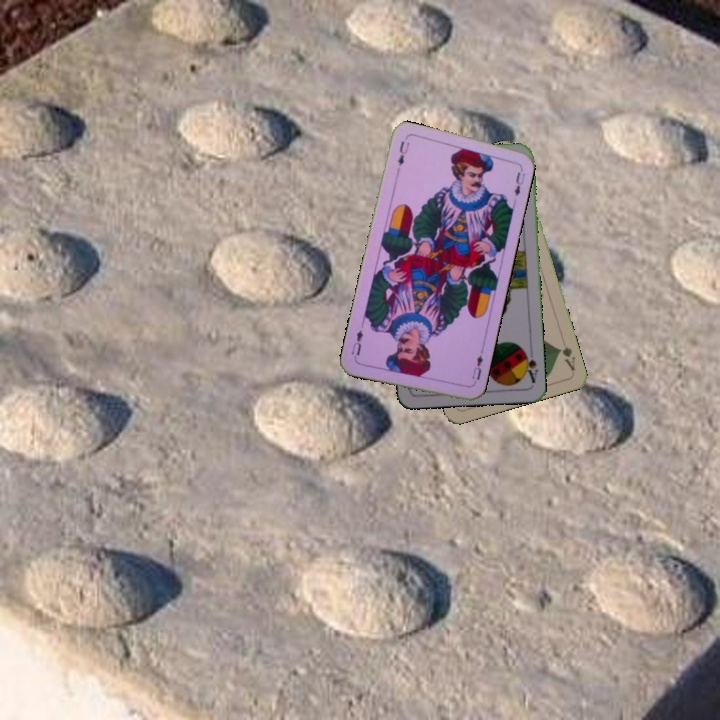EU: (468, 346, 486, 382), (393, 137, 412, 168)
GA: (555, 343, 578, 373)
SA: (520, 346, 540, 386)
